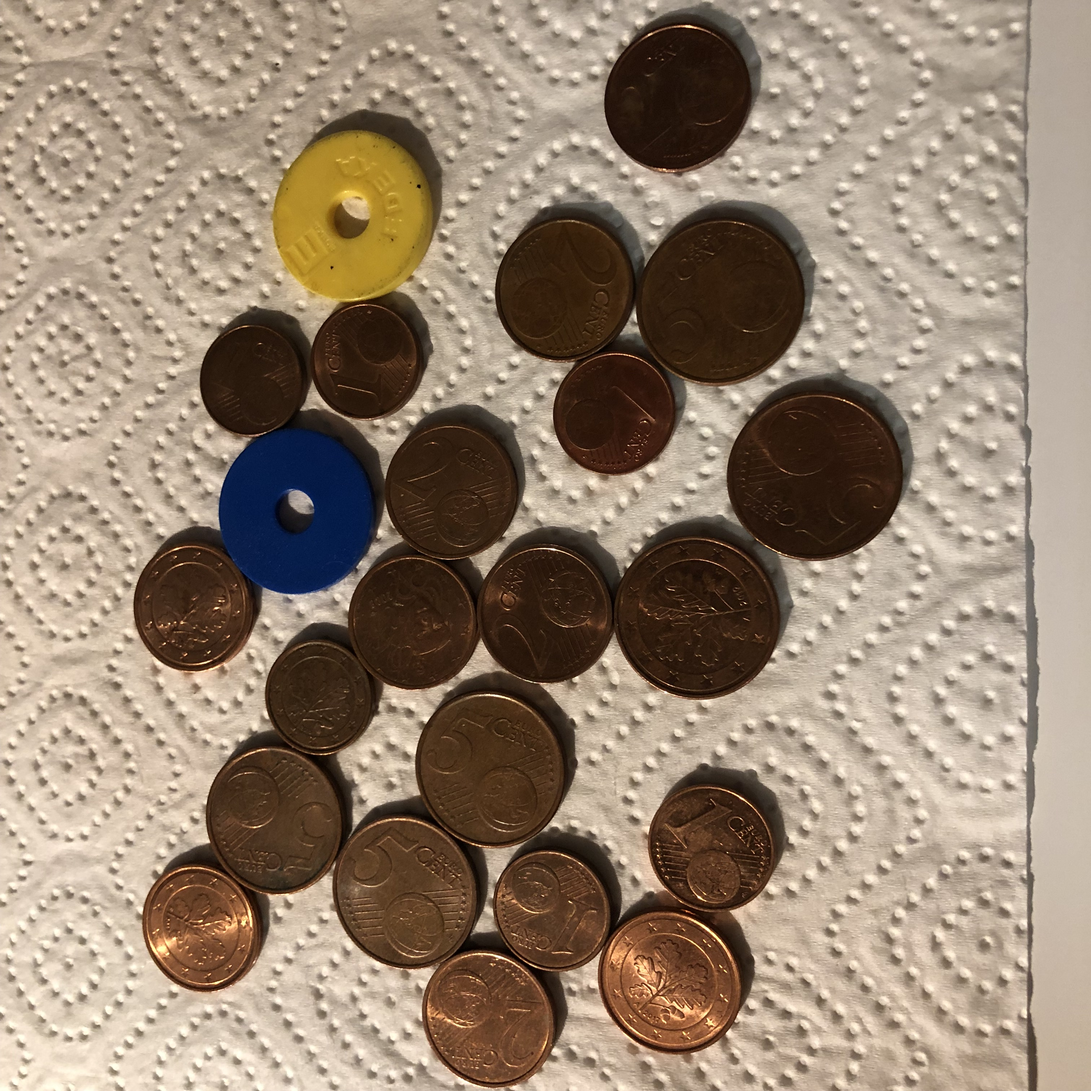1 cent: (648, 778, 781, 915), (550, 349, 677, 478), (142, 865, 265, 994), (490, 845, 613, 973), (263, 639, 376, 757), (310, 301, 423, 419), (196, 321, 308, 439)
2 cent: (600, 16, 755, 175), (594, 909, 742, 1057), (494, 214, 638, 362), (473, 536, 613, 685), (382, 416, 522, 564), (421, 943, 561, 1091), (343, 554, 479, 691), (132, 537, 255, 674)
5 cent: (724, 389, 906, 562), (633, 213, 815, 386), (613, 533, 782, 705), (413, 687, 567, 848), (330, 813, 478, 973), (205, 745, 346, 897)
